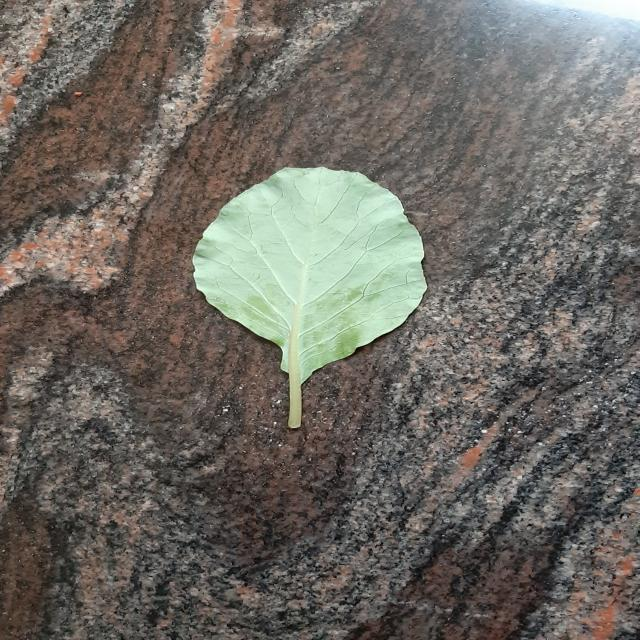Kohlrabi: (193, 168, 427, 428)
